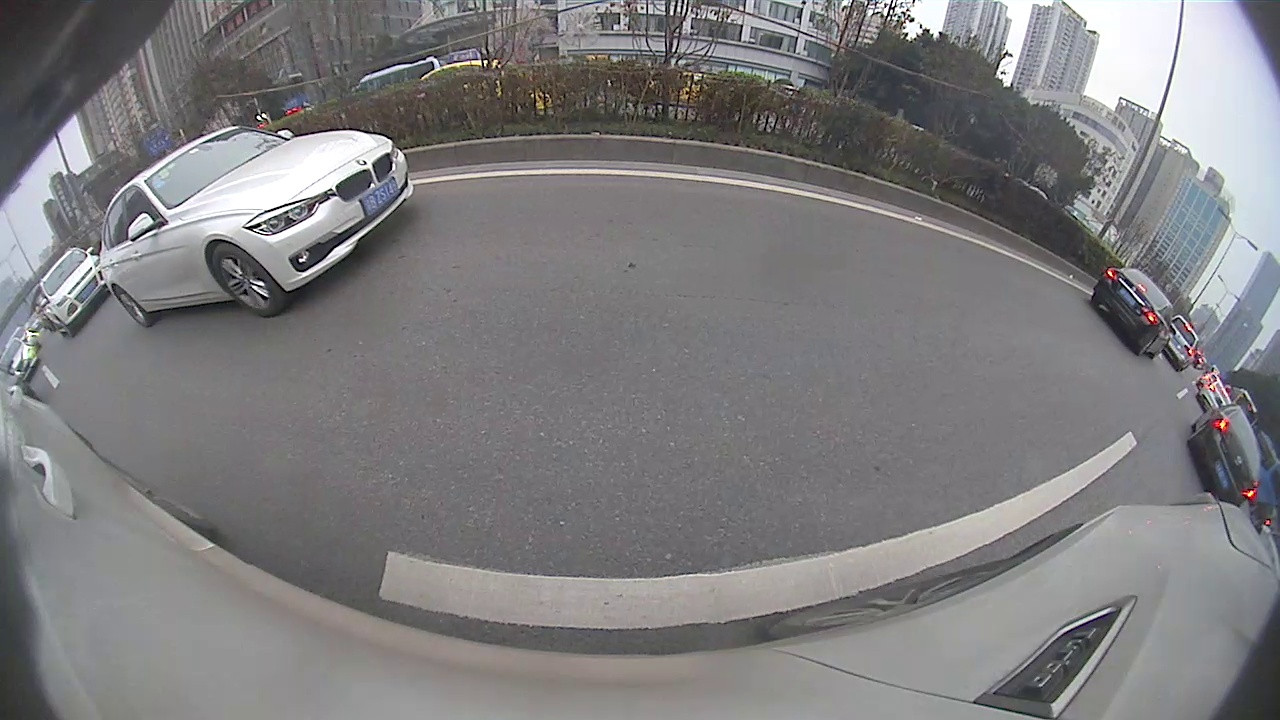car: (97, 123, 415, 331), (1185, 399, 1263, 508), (1088, 264, 1176, 360), (36, 243, 108, 338), (1166, 314, 1203, 371)
front: (208, 247, 281, 316)
rear: (110, 286, 149, 327)
